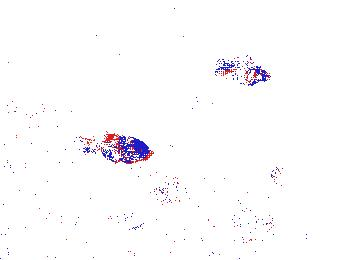X-ray fish: (210, 210, 274, 245), (92, 129, 152, 162), (215, 55, 273, 85), (157, 176, 194, 204)
